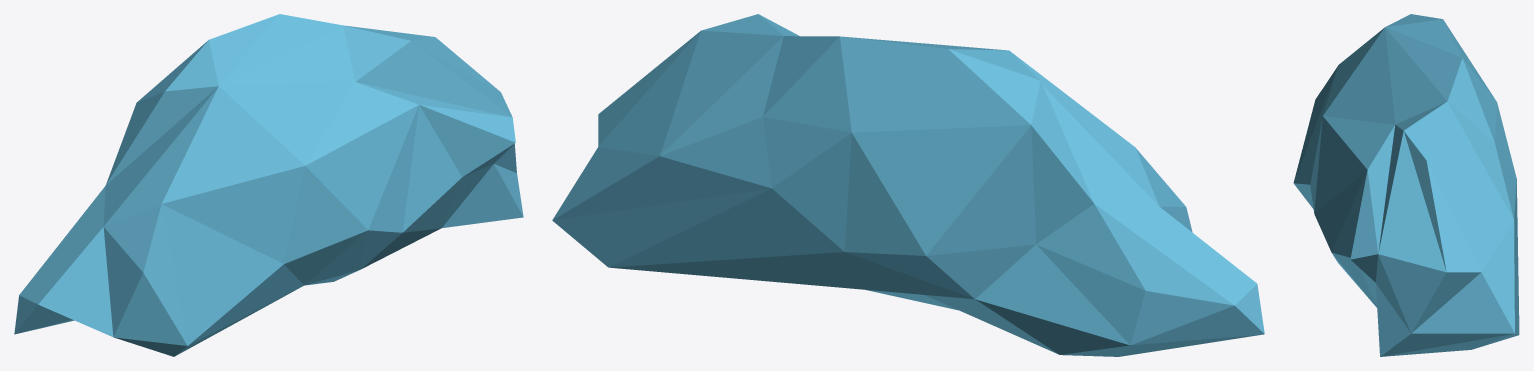
Rendered from Cloud_v09.fbx.
The picture shows the model from 3 angles, left to right: view 1: azimuth 30°, elevation 25°; view 2: azimuth 150°, elevation 25°; view 3: azimuth 270°, elevation 25°; orthographic projection. The views are drawn at different scales.
Parts seen in each view (by area): view 1: Cloud_v09; view 2: Cloud_v09; view 3: Cloud_v09.
Boxes of the visible parts, x1,y1,x2,y2 form: Cloud_v09: (14,14,523,356); Cloud_v09: (552,14,1264,356); Cloud_v09: (1293,14,1519,356).
Bounding box in the file's own units: 42.11 × 18.16 × 16.59.
1 material, 1 textured.
